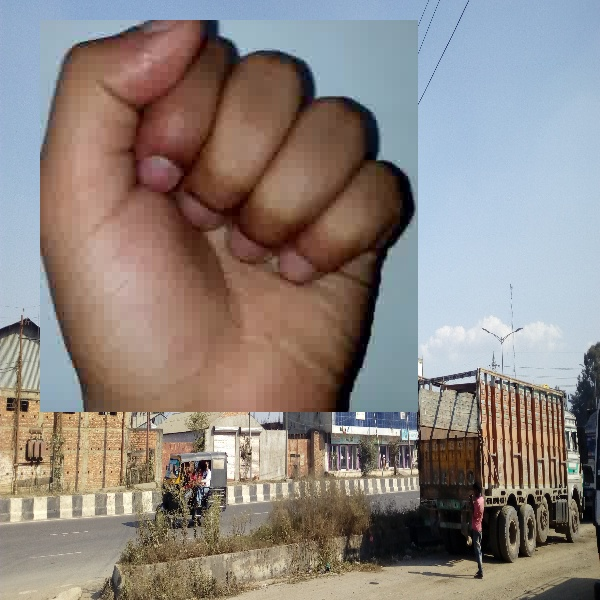A: (40, 20, 418, 412)
